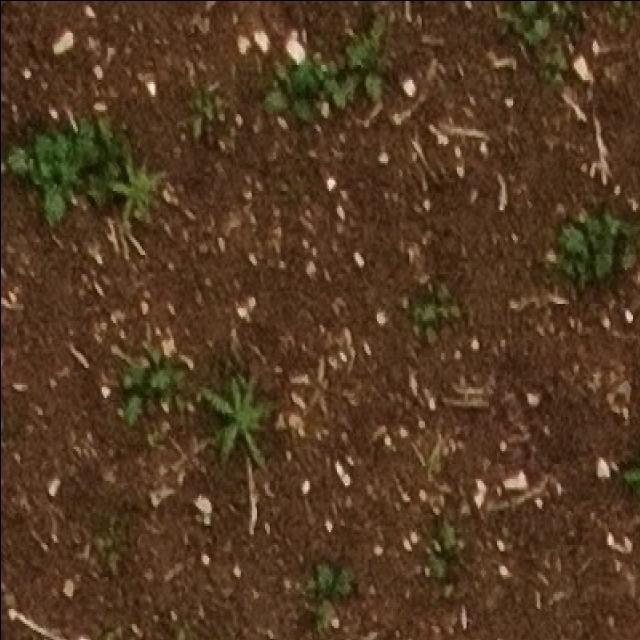cirse: (204, 357, 276, 464), (206, 381, 278, 485), (205, 353, 273, 456), (105, 147, 168, 248), (107, 148, 169, 246), (110, 137, 172, 231)
